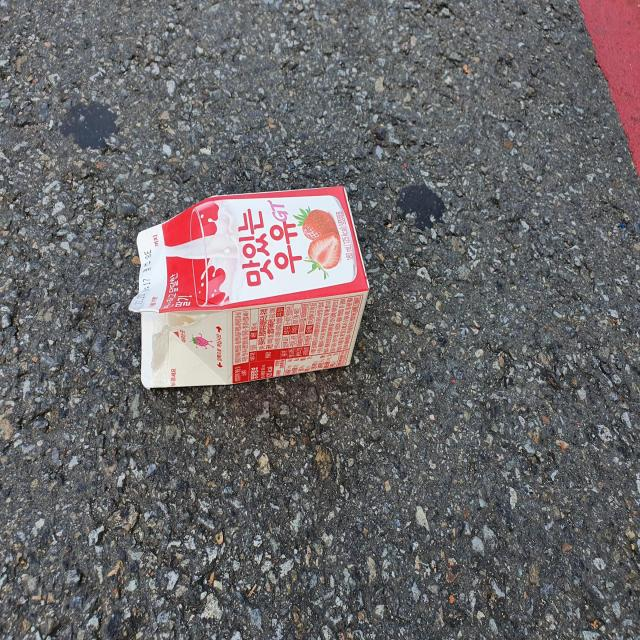paperpack: (130, 186, 369, 388)
